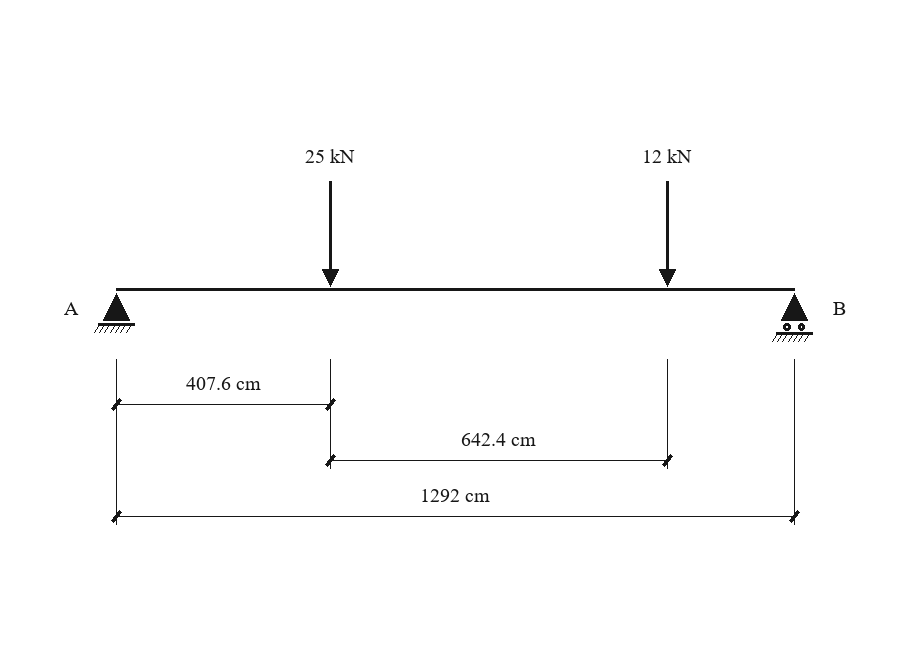pin_support: (94, 293, 135, 333)
point_load: (322, 181, 339, 287), (659, 181, 676, 287)
roller_support: (772, 293, 813, 342)
